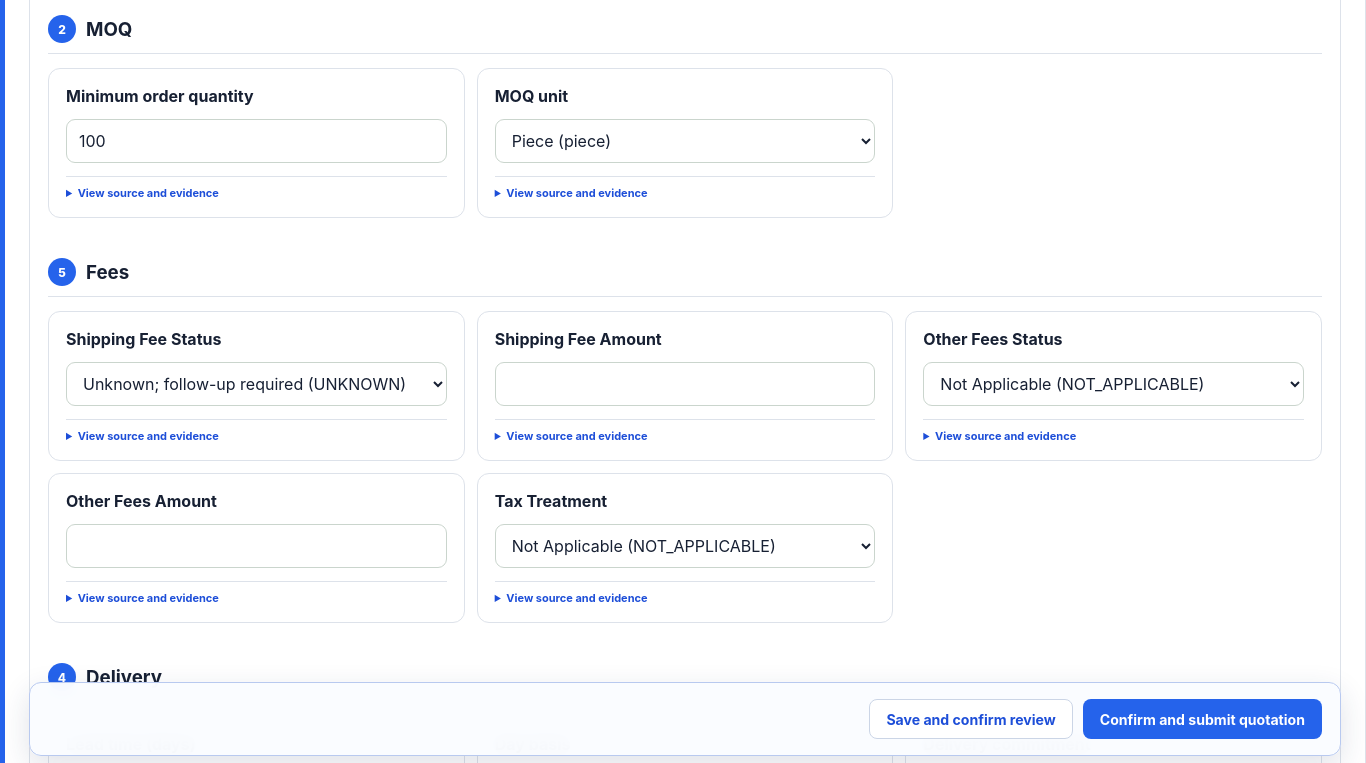
Test: QuoteDraftReviewWorkspace › keeps related fields expanded while the user finishes typing a valid value
(page scrolled)
Select "Known amount (KNOWN_AMOUNT)" in the dropdown named "Shipping Fee Status" at x=256, y=384, box [66,362,447,406]
(page scrolled)
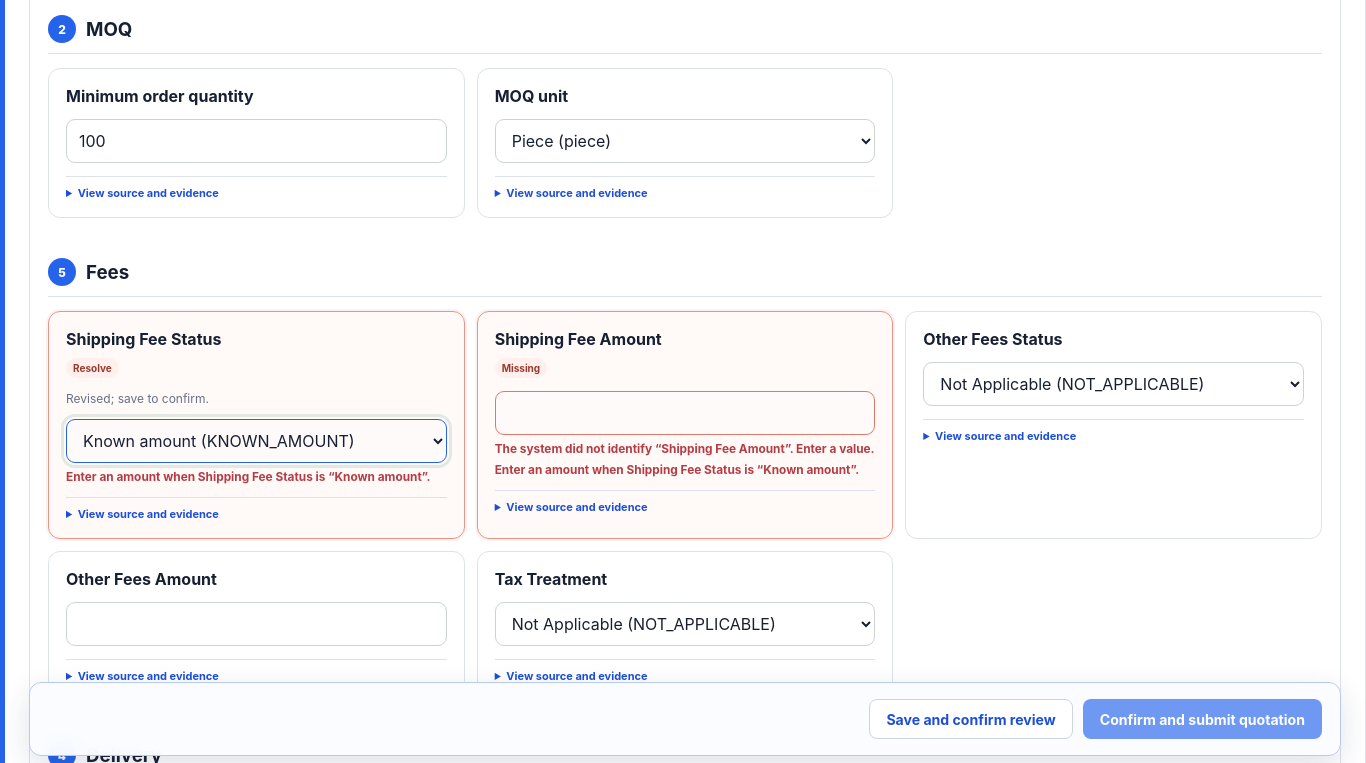
Type "2" into the field named "Shipping Fee Amount" at x=685, y=413, box [495,391,875,435]
(page scrolled)
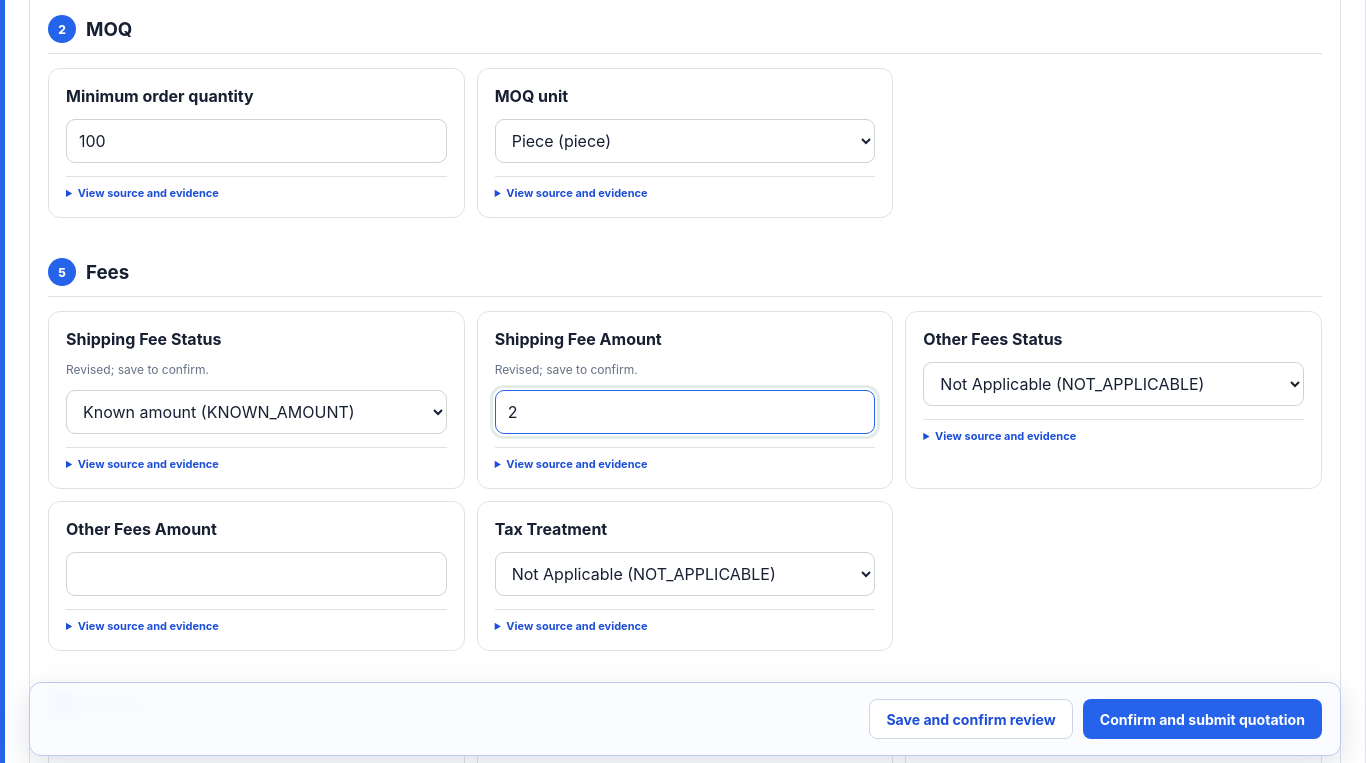
Type "00" into the field named "Shipping Fee Amount" at x=685, y=412, box [495,390,875,434]
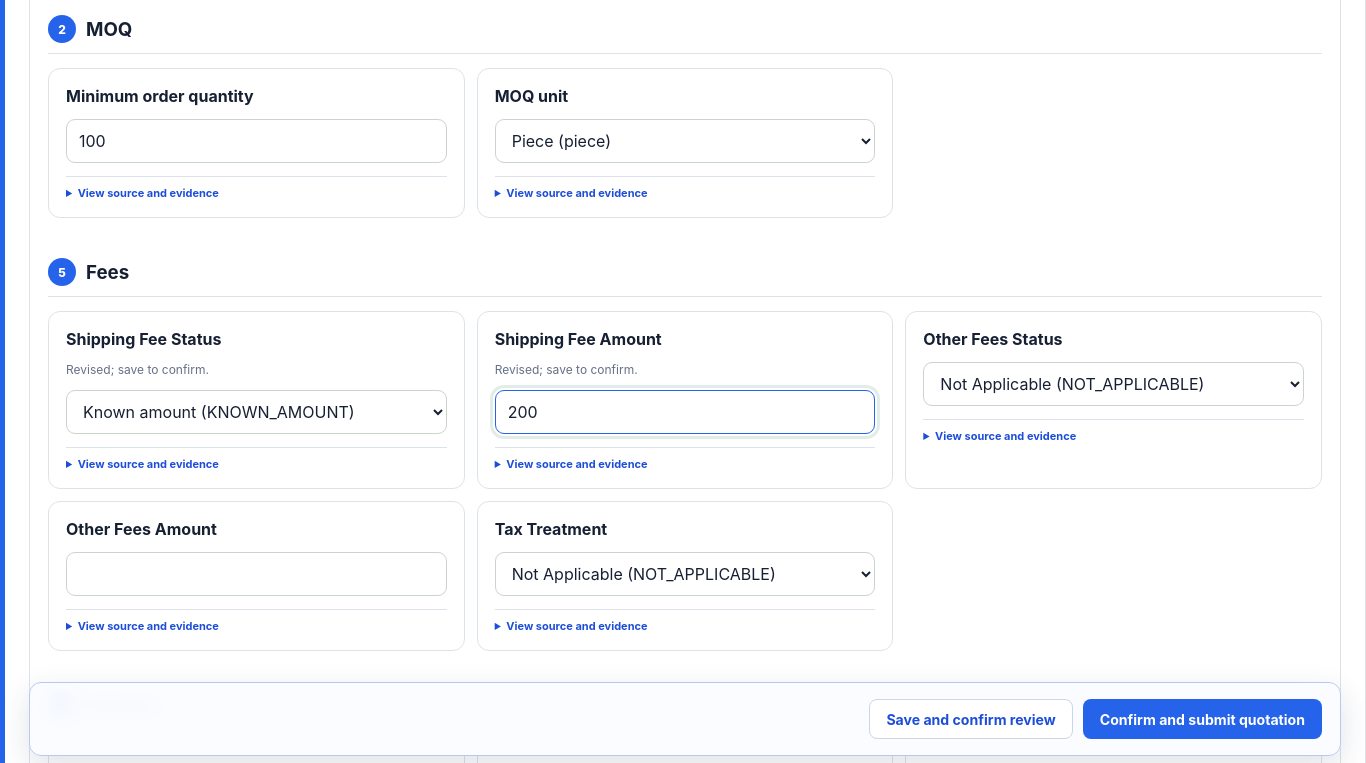
Expected: the field named "Shipping Fee Amount" holds "200", [495,390,875,434]
